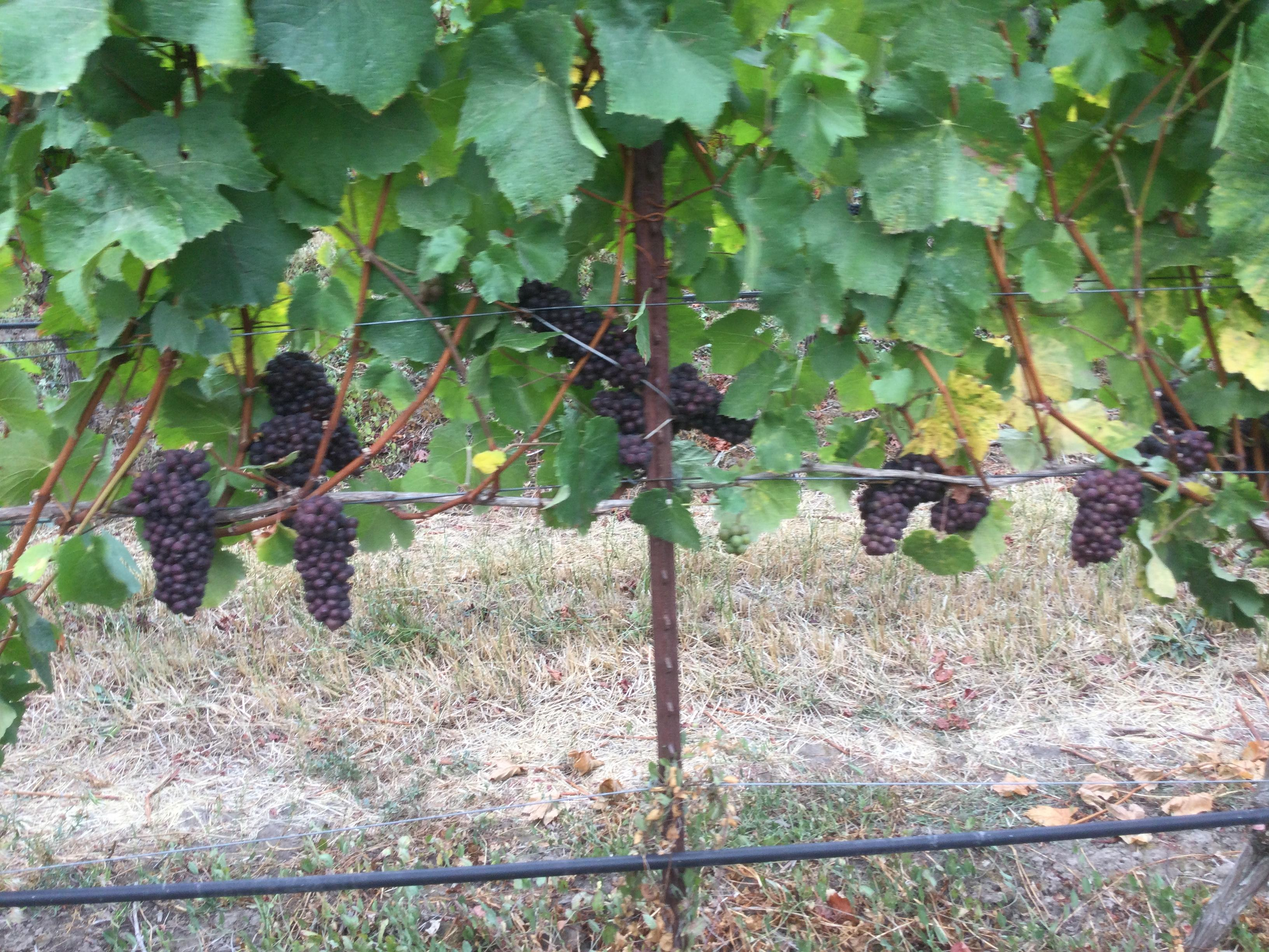leaf: (243, 68, 437, 210), (856, 70, 1024, 232), (458, 10, 595, 205), (111, 99, 271, 240), (252, 0, 434, 112), (588, 0, 740, 129), (42, 148, 185, 270), (170, 189, 308, 309), (890, 223, 989, 354), (803, 189, 910, 296), (71, 35, 182, 127), (0, 0, 110, 92), (730, 158, 809, 286), (892, 0, 1011, 84), (1044, 0, 1149, 93), (1207, 153, 1268, 306), (772, 74, 865, 171), (542, 416, 619, 532), (1211, 18, 1268, 156), (145, 0, 252, 66), (56, 533, 140, 608), (363, 295, 444, 363), (720, 350, 795, 418), (946, 372, 1003, 459), (1218, 299, 1268, 390), (396, 177, 472, 236), (629, 488, 701, 550), (752, 405, 818, 472), (706, 310, 772, 374), (288, 273, 354, 332), (470, 232, 525, 301), (1021, 241, 1082, 302), (0, 361, 49, 432), (902, 529, 976, 575), (992, 61, 1055, 114), (905, 400, 960, 457), (969, 499, 1013, 564), (201, 546, 246, 607), (255, 524, 296, 565), (255, 4, 260, 12), (586, 127, 588, 131), (600, 147, 601, 151), (595, 142, 597, 144), (76, 166, 77, 167), (764, 288, 764, 289), (469, 93, 469, 94)
